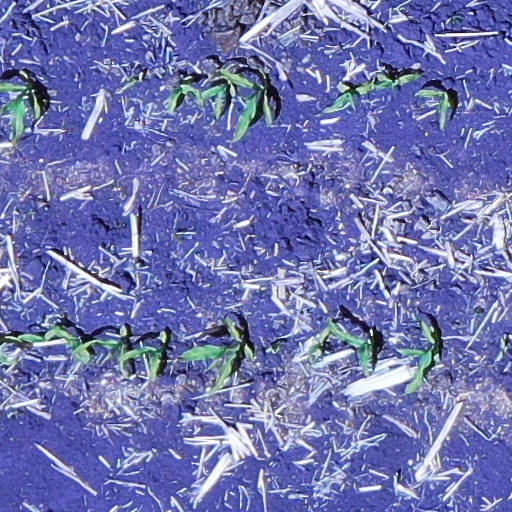planta: (181, 319, 242, 394), (215, 68, 272, 139), (399, 321, 439, 393), (74, 325, 127, 379), (329, 320, 372, 377), (49, 323, 93, 364), (118, 345, 162, 380), (328, 81, 379, 111), (365, 69, 421, 90), (419, 89, 452, 123), (167, 84, 204, 113), (11, 325, 62, 343), (198, 85, 227, 116)
